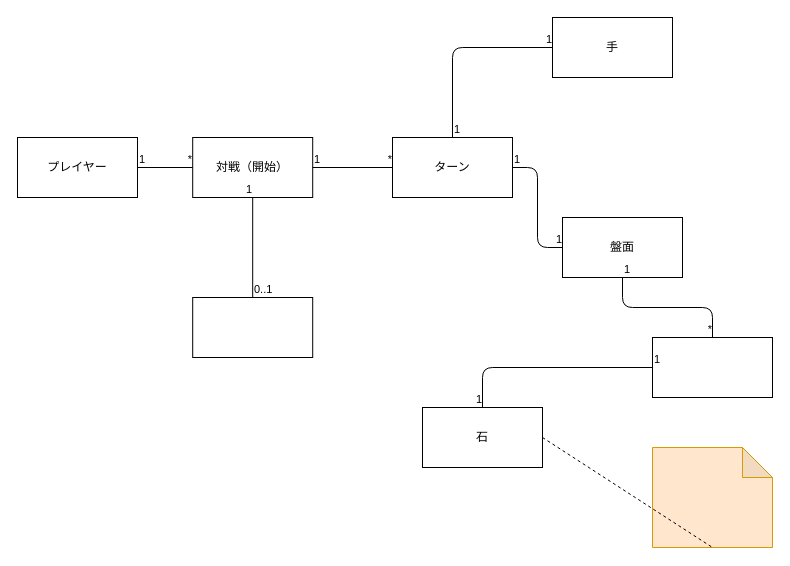
Image size: 790x566. Some labels were removed from this diagram. Here are the shapes that lost their labels. From the top down, the box of each, then its label:
(192, 296, 313, 358): 勝敗
(652, 336, 772, 398): マス目
(652, 446, 772, 548): 医師の種類 ・空 ・黒 ・白
